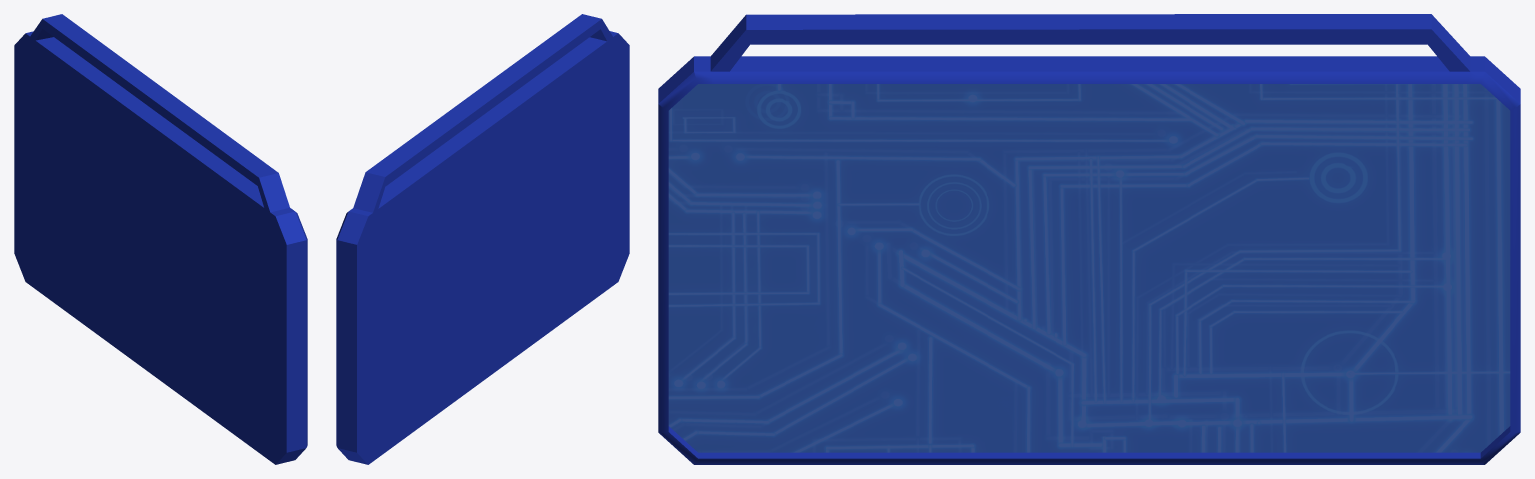
The model's file is Timer.fbx.
The picture shows the model from 3 angles, left to right: view 1: azimuth 30°, elevation 25°; view 2: azimuth 150°, elevation 25°; view 3: azimuth 270°, elevation 25°; orthographic projection. The views are drawn at different scales.
Parts seen in each view (by area): view 1: pCube1; view 2: pCube1; view 3: pCube1.
Boxes of the visible parts, x1,y1,x2,y2 form: pCube1: (14, 14, 307, 464); pCube1: (336, 14, 629, 464); pCube1: (658, 14, 1520, 464).
Bounding box in the file's own units: 15.66 × 174 × 312.
1 material, 1 textured.
